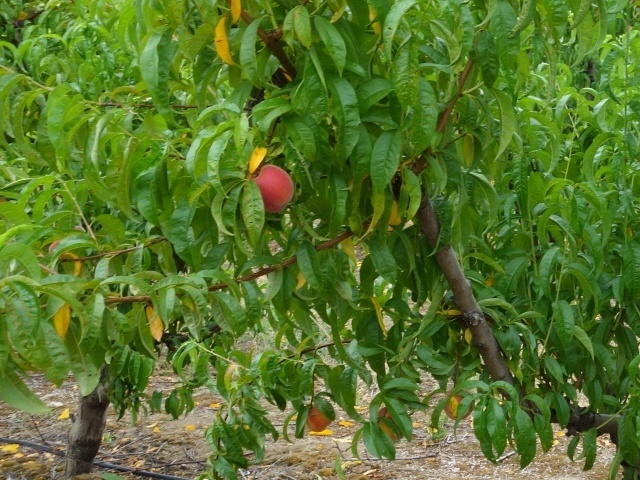peach: (239, 162, 298, 218), (439, 387, 478, 425), (372, 406, 406, 445), (302, 401, 338, 437)
